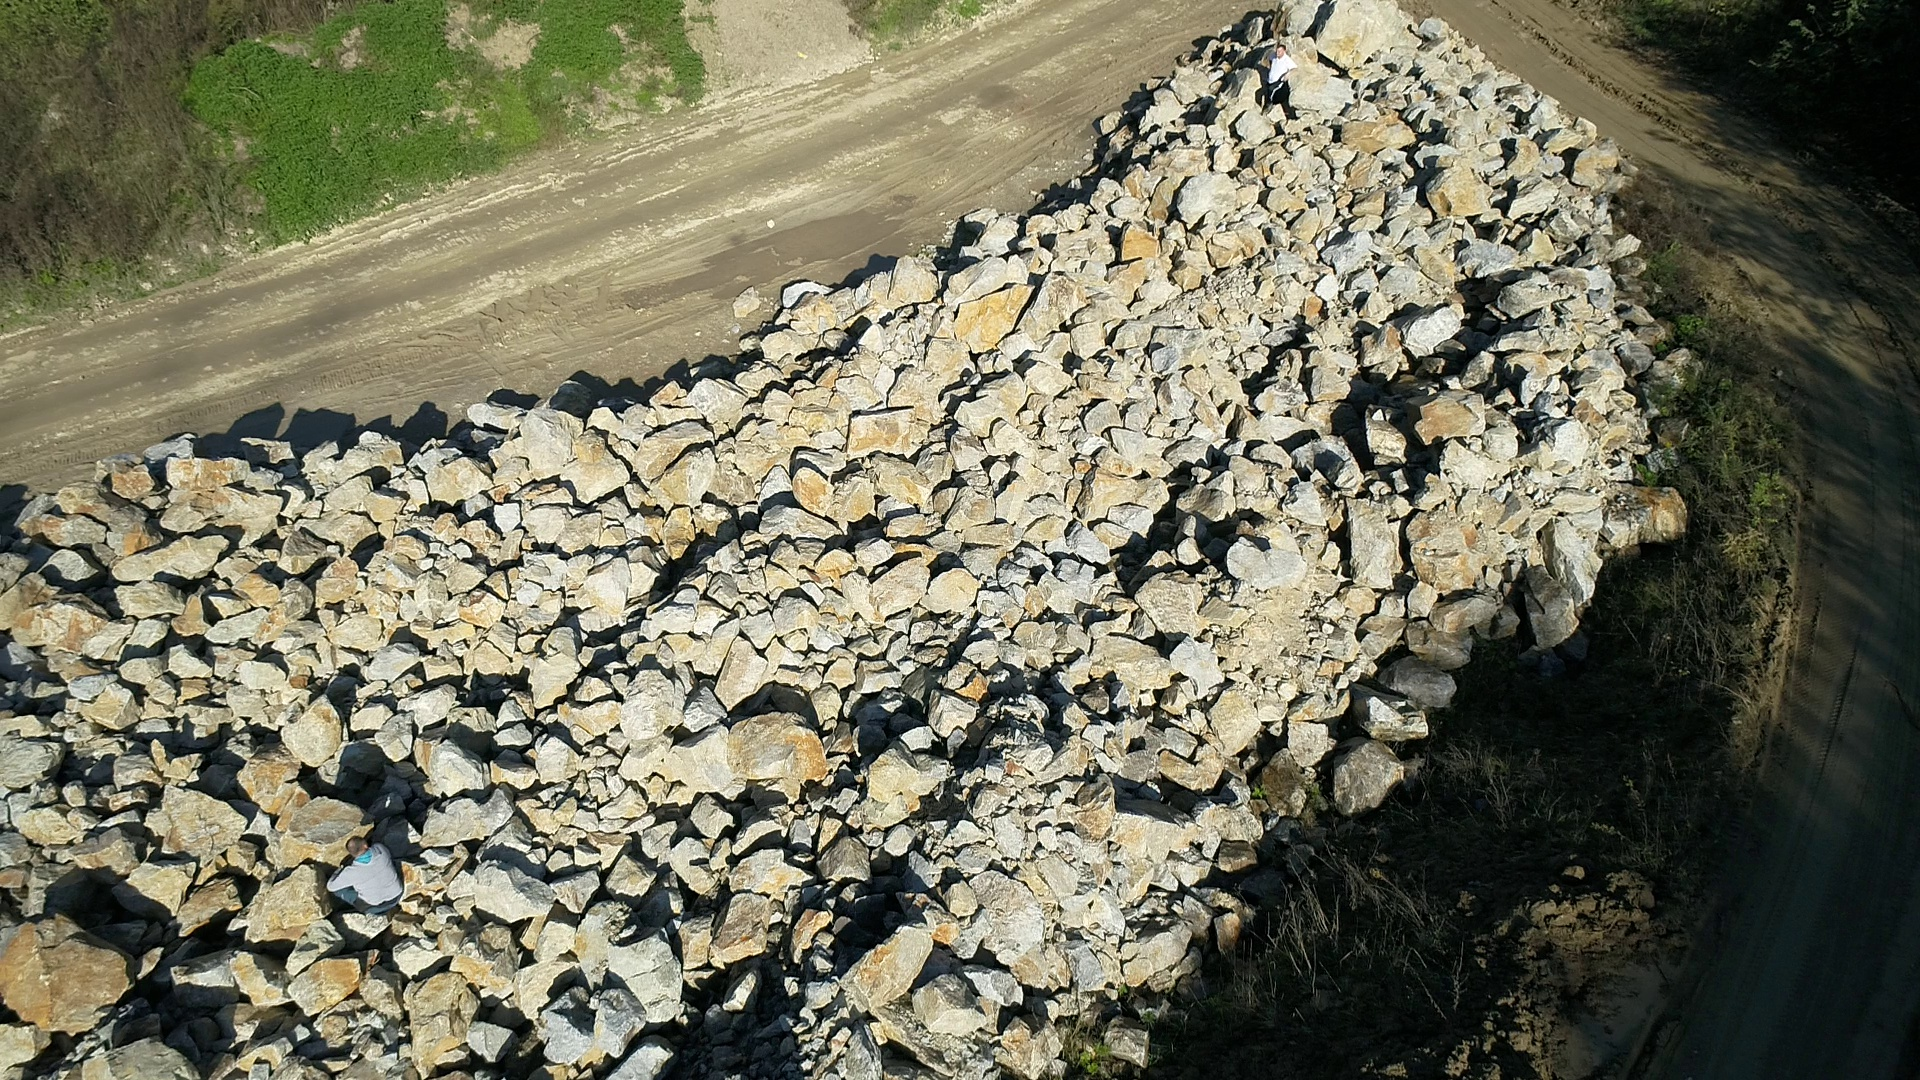person: (326, 836, 405, 914), (1265, 45, 1298, 105)
